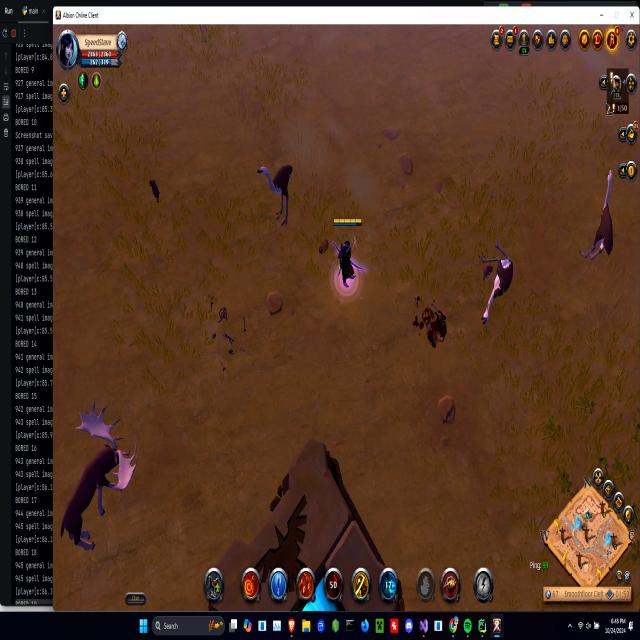mob: (478, 234, 520, 333)
ore: (56, 392, 142, 565), (581, 166, 618, 270), (256, 149, 298, 226)
red: (328, 210, 364, 295)
